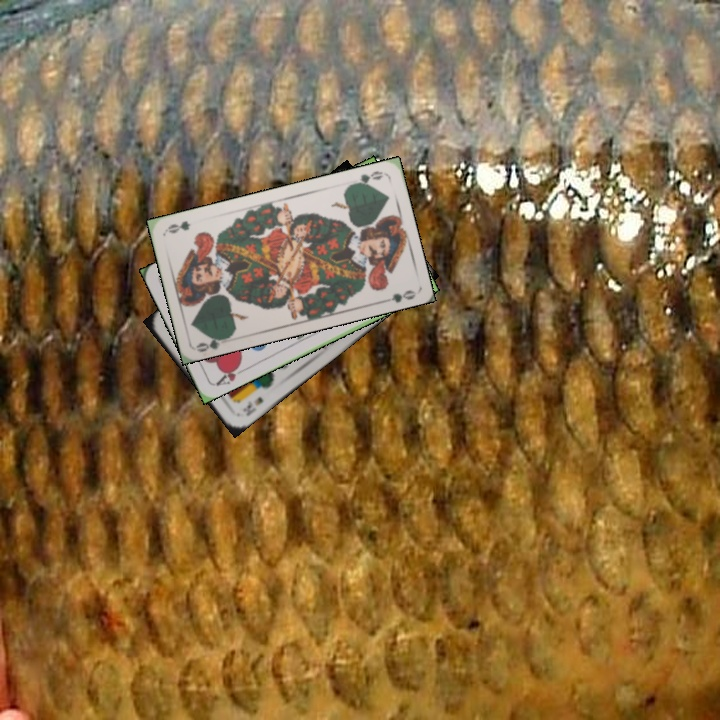EK: (239, 393, 266, 419)
GO: (193, 331, 233, 355), (347, 167, 386, 188)
HA: (212, 359, 249, 389)
